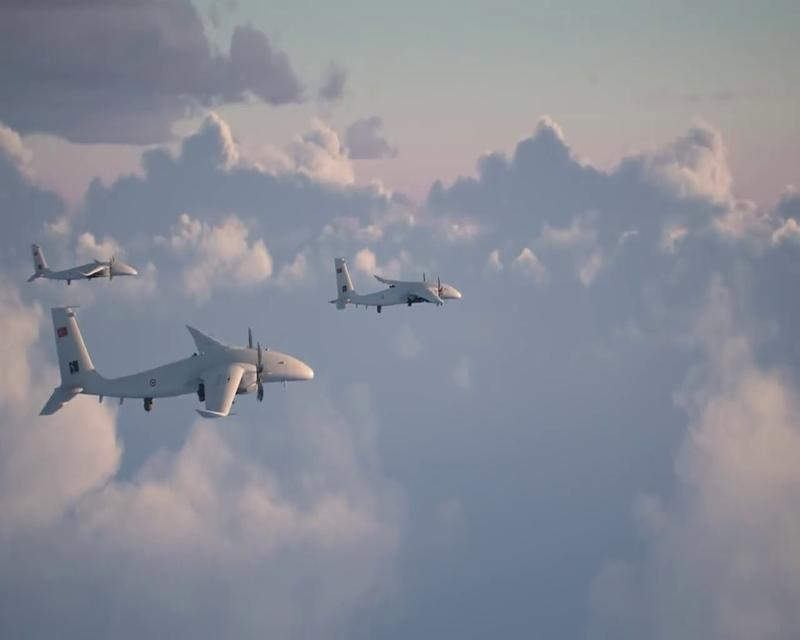UAV: (38, 303, 315, 419), (327, 256, 462, 313), (24, 242, 141, 287)
